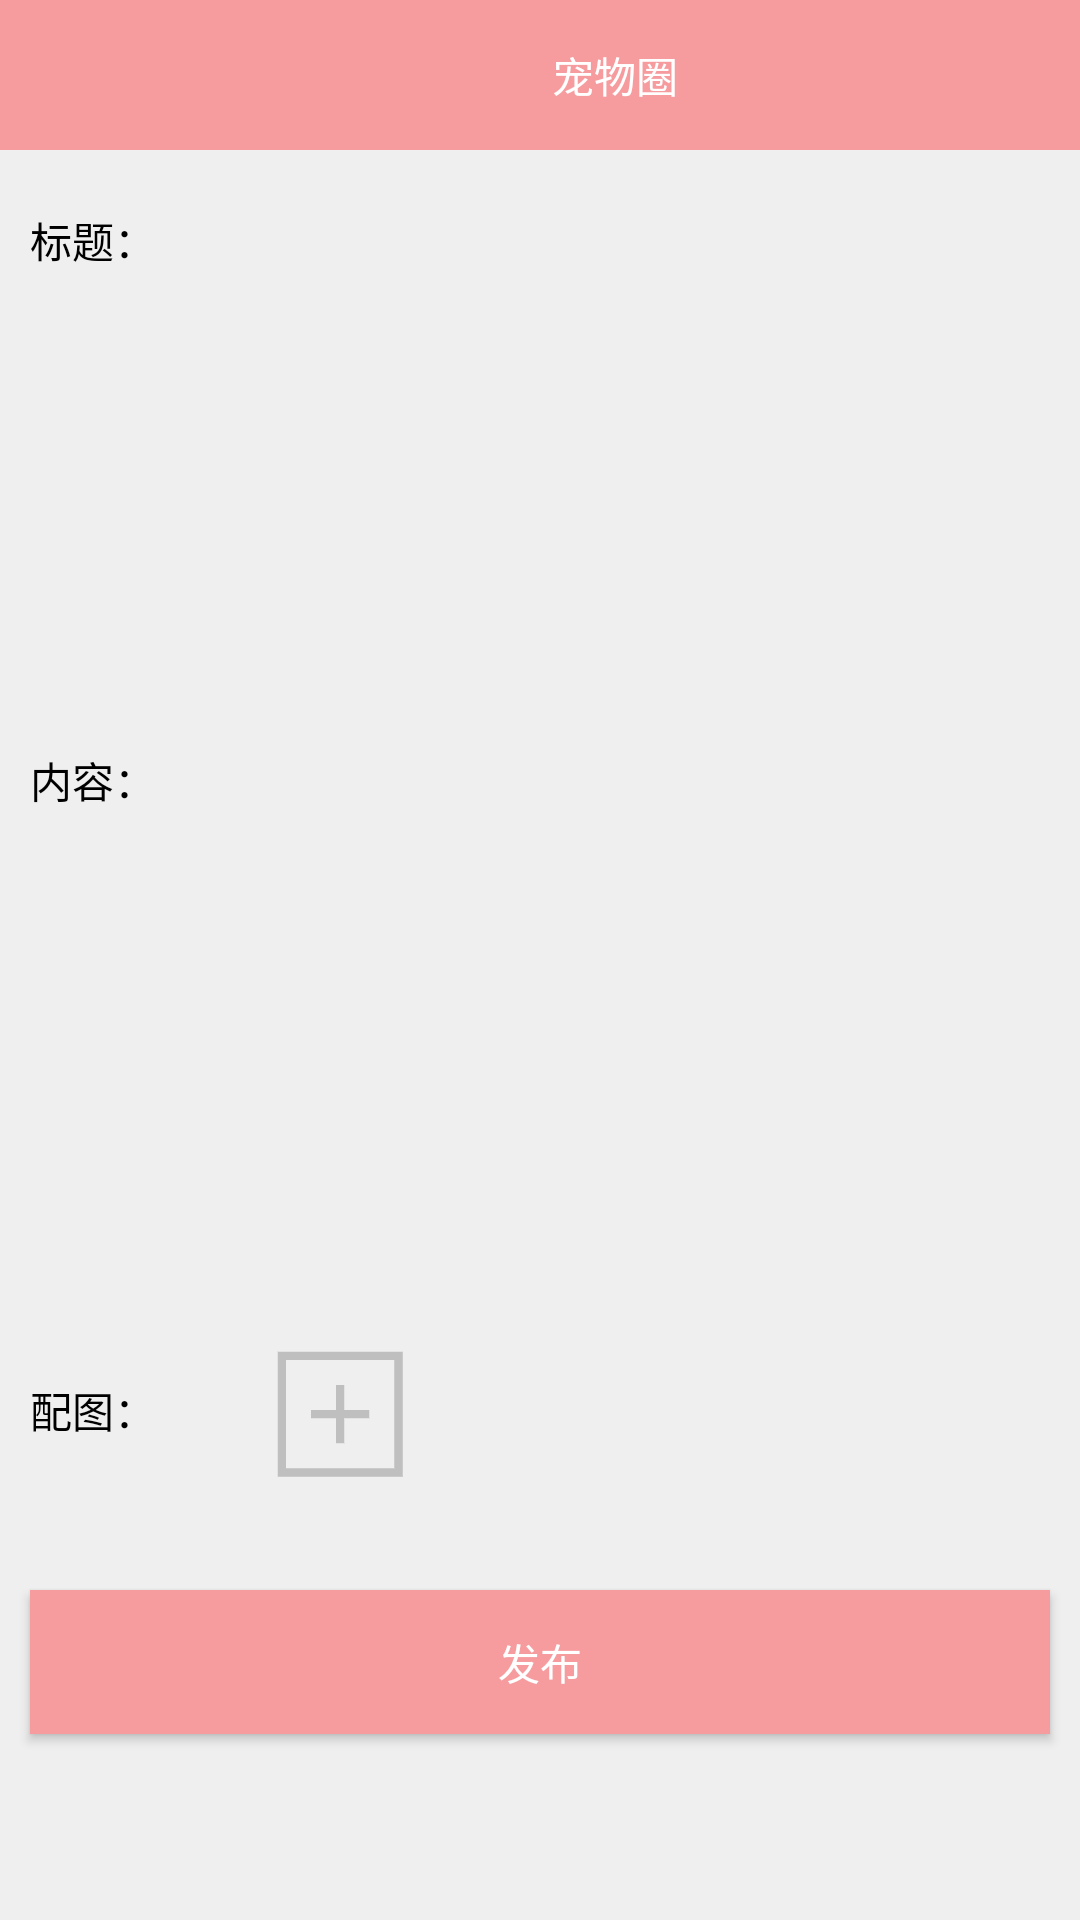

Where to tap for icons on this 1080 x 1920 app screen, as (x,y):
add: (340,1414)
